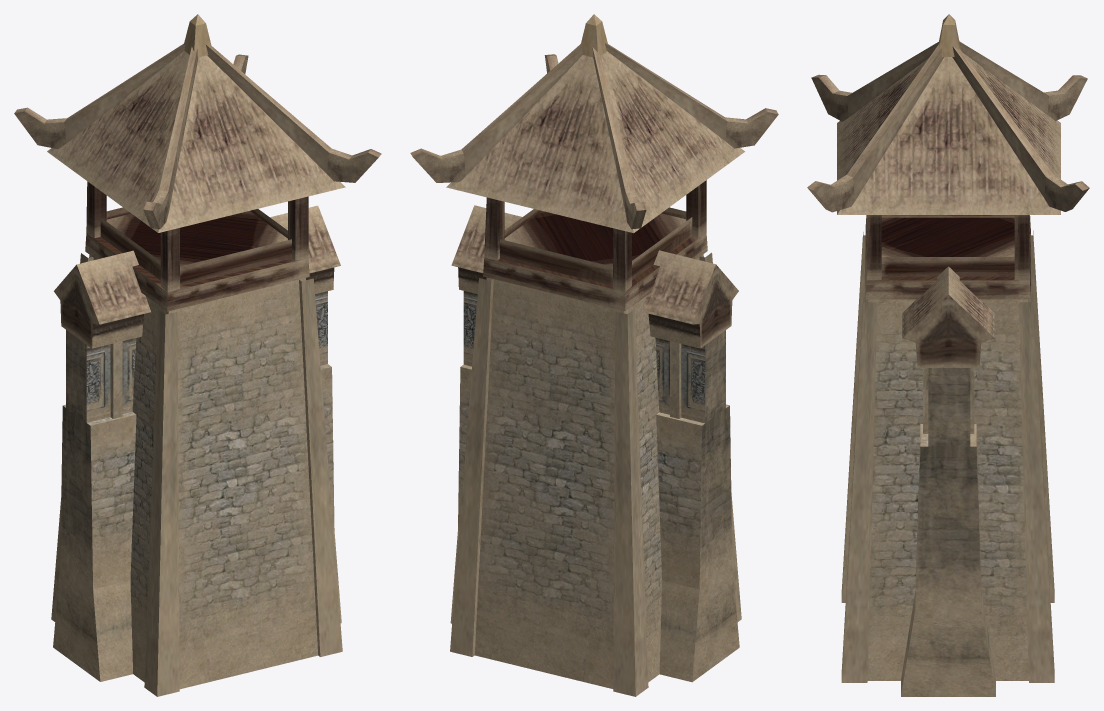
Rendered from desert-middledam-07_lod_01.glb.
The picture shows the model from 3 angles, left to right: view 1: azimuth 30°, elevation 25°; view 2: azimuth 150°, elevation 25°; view 3: azimuth 270°, elevation 25°; orthographic projection.
Parts seen in each view (by area): view 1: desert-middledam-03, desert-middledam-02, desert-middledam-04; view 2: desert-middledam-03, desert-middledam-02, desert-middledam-04; view 3: desert-middledam-03, desert-middledam-02, desert-middledam-04.
Part boxes in pixels (<box>): desert-middledam-03: <box>47,14,345,696</box>; desert-middledam-02: <box>53,205,341,681</box>; desert-middledam-04: <box>14,43,381,311</box>; desert-middledam-03: <box>446,14,744,696</box>; desert-middledam-02: <box>450,205,739,682</box>; desert-middledam-04: <box>410,43,778,311</box>; desert-middledam-03: <box>837,14,1060,682</box>; desert-middledam-02: <box>901,266,995,696</box>; desert-middledam-04: <box>807,41,1089,299</box>.
Bounding box in the file's own units: 5 × 12.29 × 5.05.
Materials: 3 (3 with a texture image).
